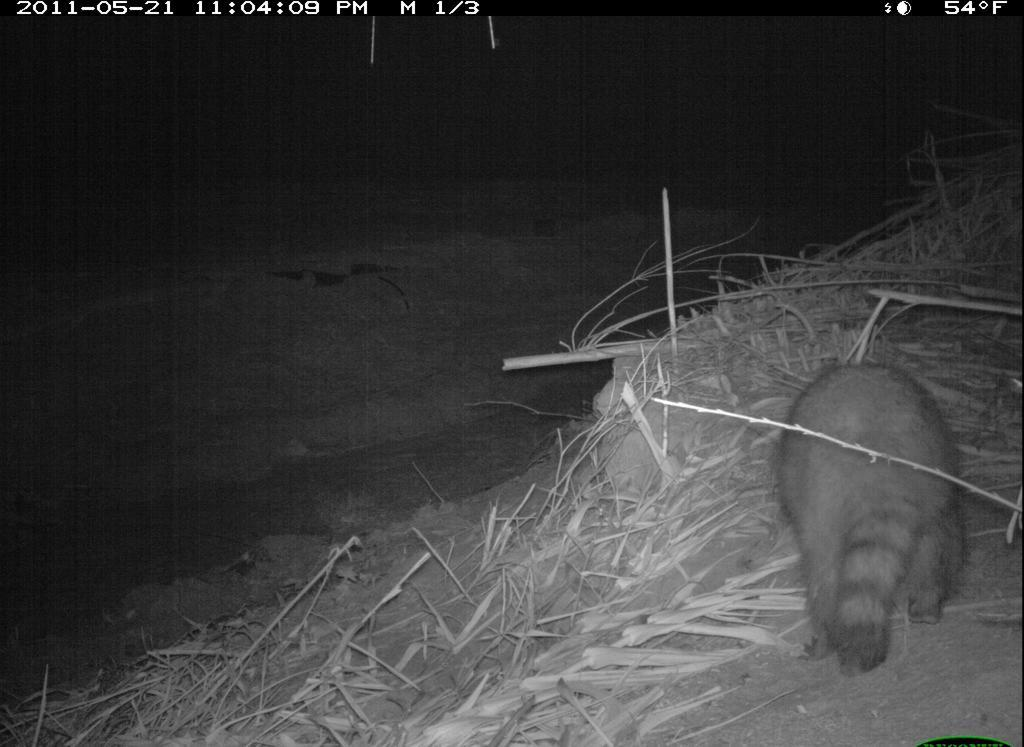raccoon: (761, 359, 998, 680)
